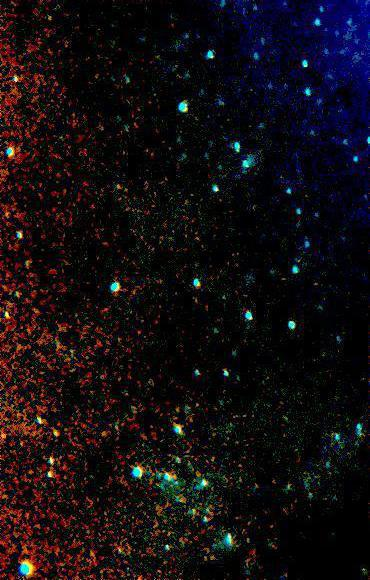star: (0, 421, 19, 451)
